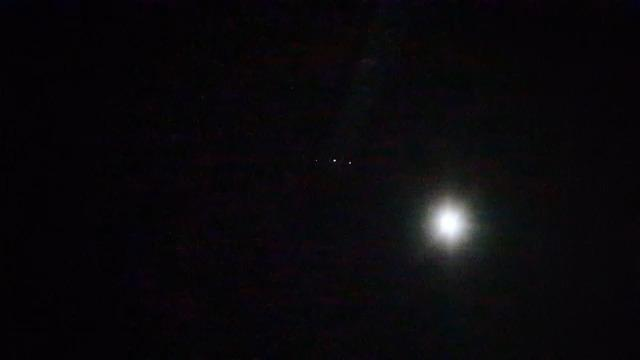Plane: (308, 140, 362, 173)
